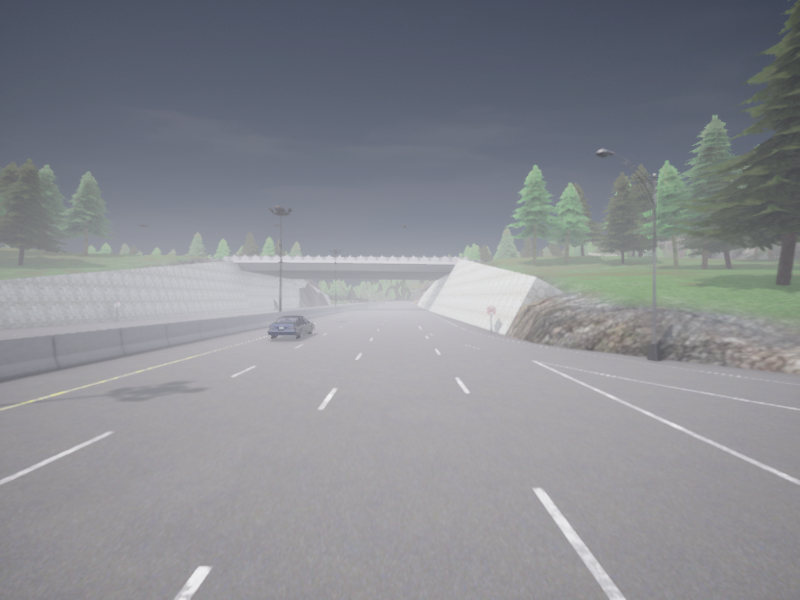vehicle: (268, 315, 314, 338)
